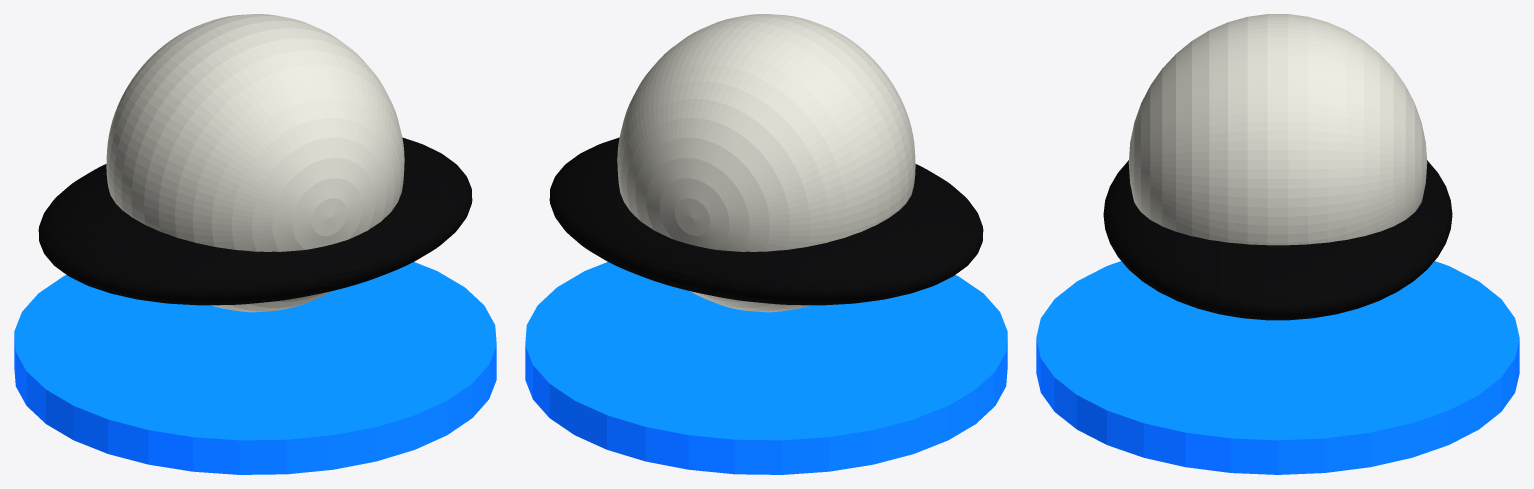
File: french_mime_mask.dae
3 renders of one model, left to right at view 1: azimuth 30°, elevation 25°; view 2: azimuth 150°, elevation 25°; view 3: azimuth 270°, elevation 25°, orthographic.
Visible parts, largest first — view 1: 10_13_Popular_French_Mime_Mask_ROOT_base, 10_13_Popular_French_Mime_Mask_part_01, 10_13_Popular_French_Mime_Mask_part_05; view 2: 10_13_Popular_French_Mime_Mask_ROOT_base, 10_13_Popular_French_Mime_Mask_part_01, 10_13_Popular_French_Mime_Mask_part_05; view 3: 10_13_Popular_French_Mime_Mask_ROOT_base, 10_13_Popular_French_Mime_Mask_part_01, 10_13_Popular_French_Mime_Mask_part_05.
Boxes of the visible parts, left/top/right/bottom form: 10_13_Popular_French_Mime_Mask_ROOT_base: left=14, top=262, right=496, bottom=474; 10_13_Popular_French_Mime_Mask_part_01: left=106, top=14, right=404, bottom=312; 10_13_Popular_French_Mime_Mask_part_05: left=38, top=137, right=472, bottom=305; 10_13_Popular_French_Mime_Mask_ROOT_base: left=525, top=262, right=1007, bottom=474; 10_13_Popular_French_Mime_Mask_part_01: left=617, top=14, right=915, bottom=312; 10_13_Popular_French_Mime_Mask_part_05: left=549, top=137, right=983, bottom=305; 10_13_Popular_French_Mime_Mask_ROOT_base: left=1036, top=261, right=1519, bottom=474; 10_13_Popular_French_Mime_Mask_part_01: left=1128, top=14, right=1427, bottom=245; 10_13_Popular_French_Mime_Mask_part_05: left=1103, top=160, right=1452, bottom=320.
Bounding box in the file's own units: 0.76 × 0.598 × 0.76.
